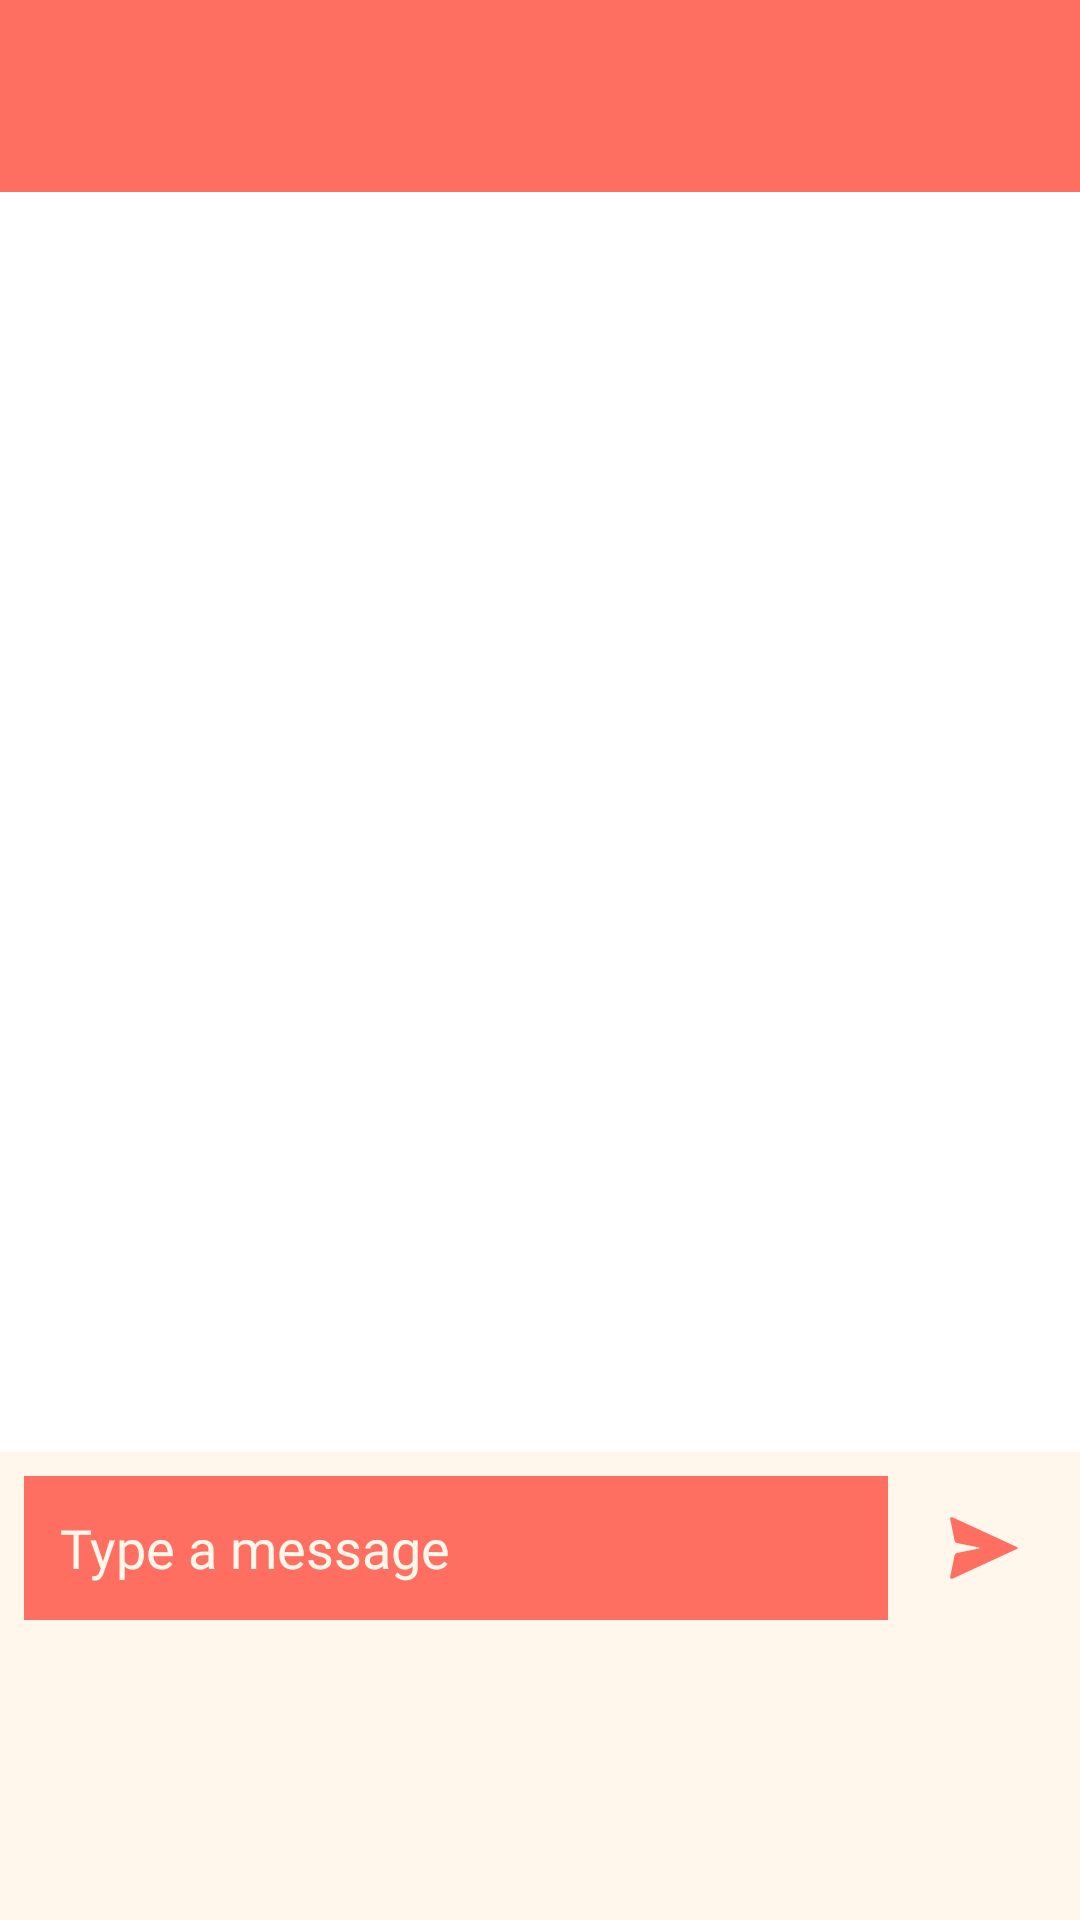

Where to tap for icons on this 1080 × 1920 app screen, as (x,y):
Send Message: (984,1548)
